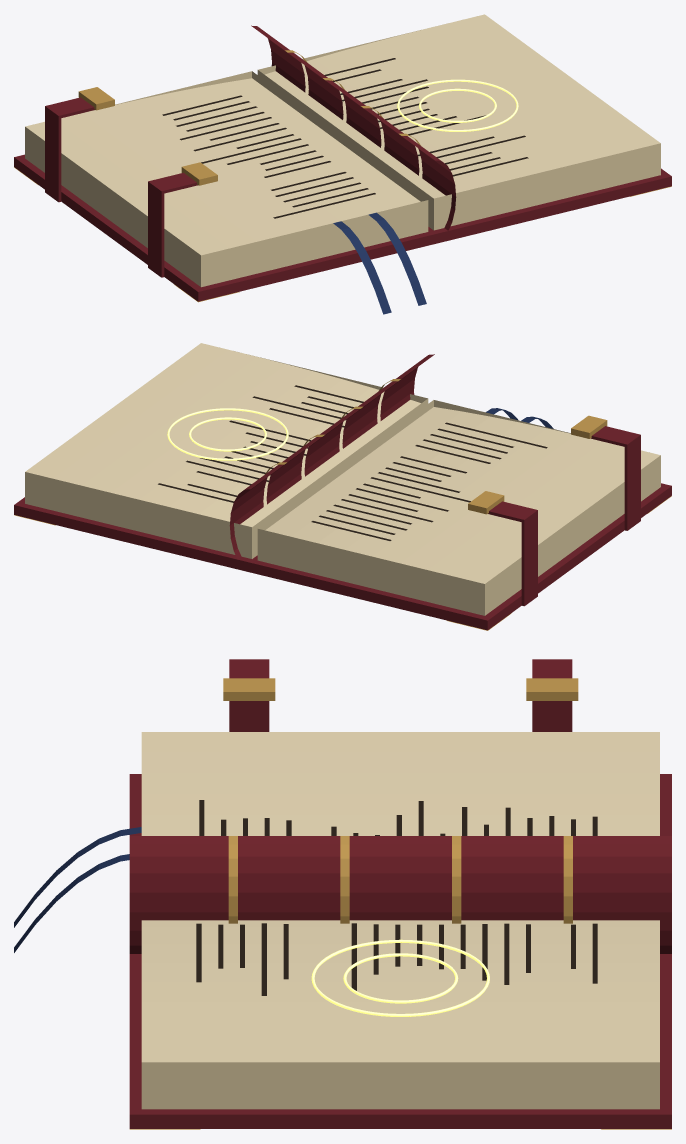
Rendered from grimoire.glb.
The picture shows the model from 3 angles, top to bottom: view 1: azimuth 30°, elevation 25°; view 2: azimuth 150°, elevation 25°; view 3: azimuth 270°, elevation 25°; orthographic projection. The views are drawn at different scales.
Visible parts, largest first — view 1: BackHalf, FrontHalf, SpineMesh, ClaspMesh_1, ClaspMesh_0, BookmarkMesh_1, BookmarkMesh_0, PageRune_0, PageRune_1; view 2: BackHalf, FrontHalf, SpineMesh, ClaspMesh_1, ClaspMesh_0, PageRune_0, PageRune_1; view 3: FrontHalf, BackHalf, SpineMesh, ClaspMesh_0, ClaspMesh_1, PageRune_0, PageRune_1, BookmarkMesh_1, BookmarkMesh_0.
Boxes of the visible parts, box(x1,y1,x2,y2) form: BackHalf: box(14, 71, 434, 302); FrontHalf: box(257, 14, 671, 243); SpineMesh: box(251, 25, 456, 230); ClaspMesh_1: box(45, 87, 114, 202); ClaspMesh_0: box(148, 162, 217, 277); BookmarkMesh_1: box(333, 221, 391, 314); BookmarkMesh_0: box(368, 212, 426, 305); PageRune_0: box(397, 79, 518, 131); PageRune_1: box(419, 88, 496, 122); BackHalf: box(251, 400, 671, 630); FrontHalf: box(14, 343, 428, 572); SpineMesh: box(229, 354, 434, 559); ClaspMesh_1: box(468, 491, 537, 606); ClaspMesh_0: box(571, 415, 640, 530); PageRune_0: box(167, 408, 288, 460); PageRune_1: box(189, 417, 266, 451); FrontHalf: box(129, 920, 671, 1129); BackHalf: box(129, 732, 671, 835); SpineMesh: box(129, 836, 671, 953); ClaspMesh_0: box(223, 659, 275, 731); ClaspMesh_1: box(526, 659, 578, 731); PageRune_0: box(311, 939, 489, 1016); PageRune_1: box(343, 953, 458, 1003); BookmarkMesh_1: box(14, 827, 141, 927); BookmarkMesh_0: box(14, 854, 129, 952).
Size of the model in its own units: 2.03 by 0.45 by 1.65.
